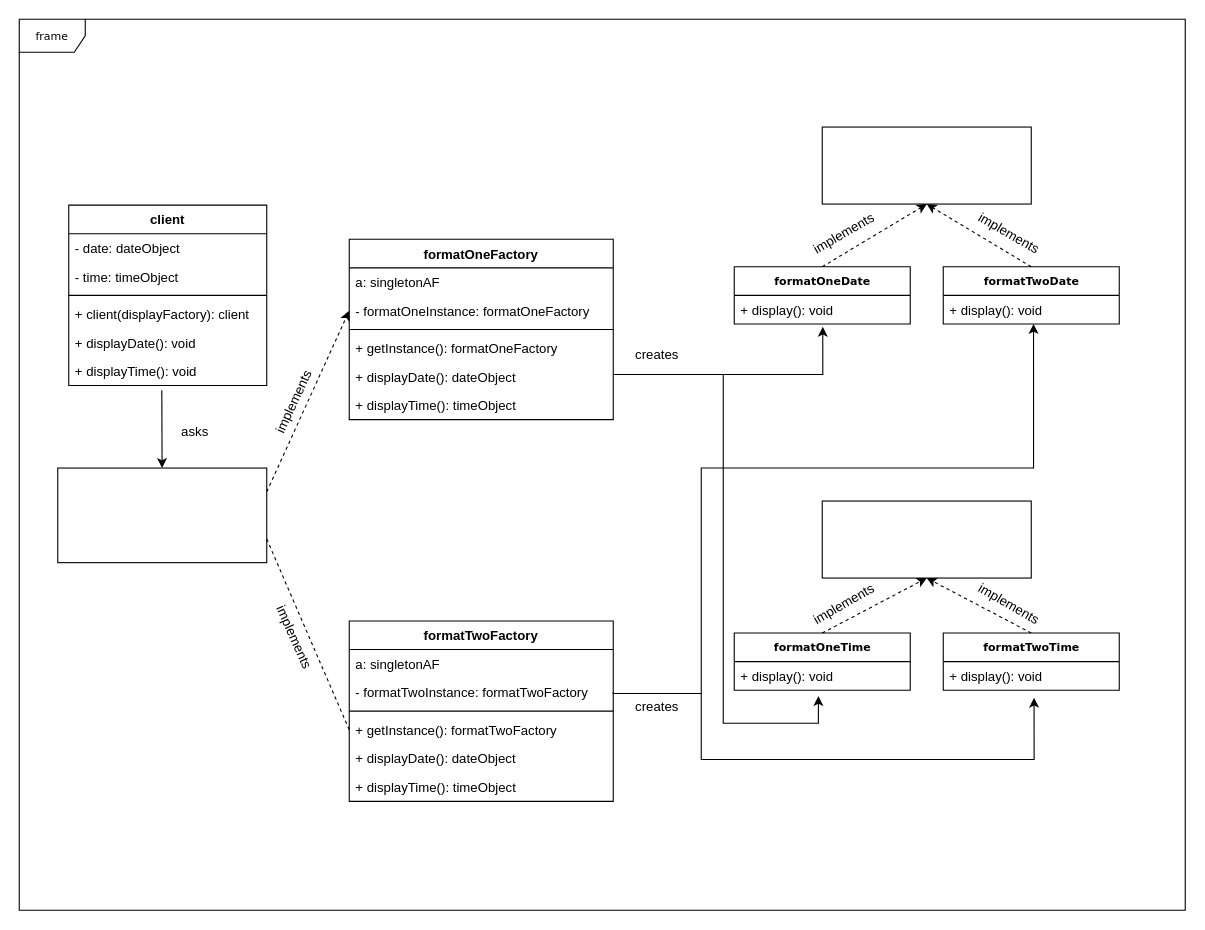
Some shapes in this 1205 by 930 pixel diagram are drawn without their labels. The centre of each missing label's shape, as x and y in pixels:
"<<Interface>> dateObject display(): void" belongs at pixel 926 165.
"<<Interface>> displayFactory displayDate(): dateObject displayTime(): timeObject" belongs at pixel 162 515.
"<<Interface>> timeObject display(): void" belongs at pixel 926 539.
